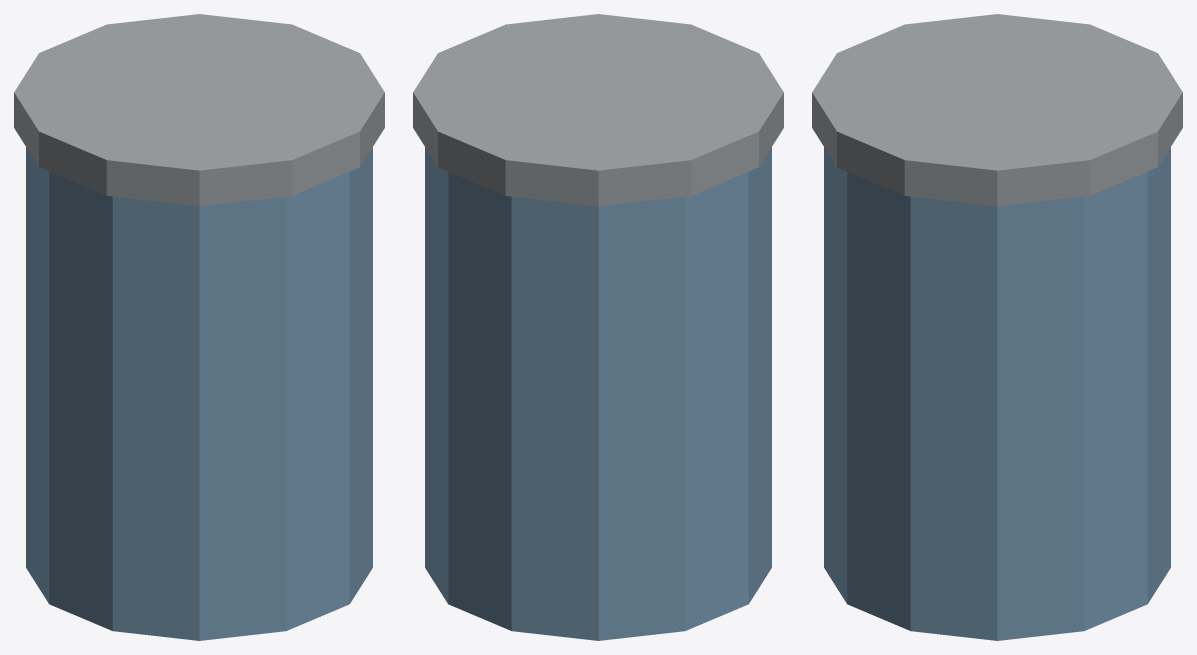
File: trash_can_02.glb
The picture shows the model from 3 angles, left to right: view 1: azimuth 30°, elevation 25°; view 2: azimuth 150°, elevation 25°; view 3: azimuth 270°, elevation 25°; orthographic projection.
Parts seen in each view (by area): view 1: can, rim; view 2: can, rim; view 3: can, rim.
Boxes of the visible parts, x1,y1,x2,y2 form: can: (26, 147, 372, 640); rim: (14, 14, 384, 206); can: (425, 147, 771, 640); rim: (413, 14, 783, 206); can: (824, 147, 1170, 640); rim: (812, 14, 1182, 206).
Size of the model in its own units: 0.47 by 0.665 by 0.47.
